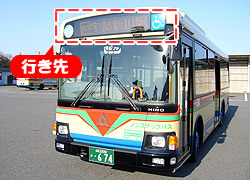destination: (74, 12, 150, 37)
